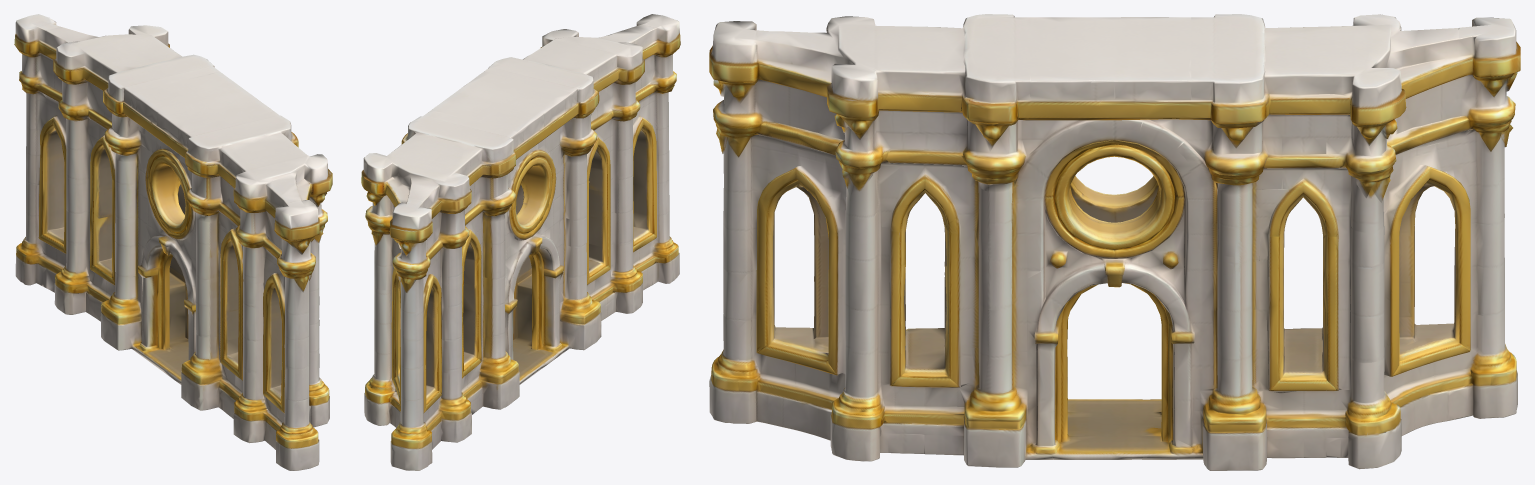
Rendered from HaloPart_CathBody_HD_src.glb.
The picture shows the model from 3 angles, left to right: view 1: azimuth 30°, elevation 25°; view 2: azimuth 150°, elevation 25°; view 3: azimuth 270°, elevation 25°; orthographic projection. The views are drawn at different scales.
Visible parts, largest first — view 1: tripo_node_4a4a44ae-d137-457e-8de2-38d43e645ed6; view 2: tripo_node_4a4a44ae-d137-457e-8de2-38d43e645ed6; view 3: tripo_node_4a4a44ae-d137-457e-8de2-38d43e645ed6.
Part boxes in pixels (x1=…): tripo_node_4a4a44ae-d137-457e-8de2-38d43e645ed6: x1=14, y1=14, x2=332, y2=470; tripo_node_4a4a44ae-d137-457e-8de2-38d43e645ed6: x1=361, y1=14, x2=680, y2=470; tripo_node_4a4a44ae-d137-457e-8de2-38d43e645ed6: x1=709, y1=14, x2=1520, y2=470.
Bounding box in the file's own units: 0.2246 × 0.5137 × 0.9792.
1 material, 1 textured.
